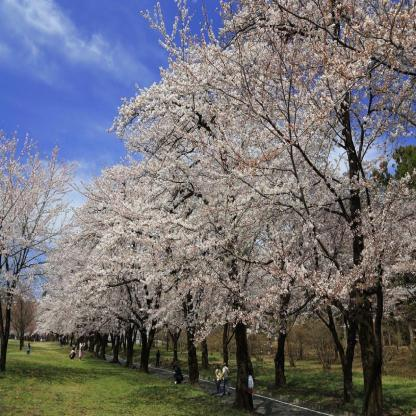Someiyoshino: (35, 2, 415, 324), (1, 128, 83, 311)
